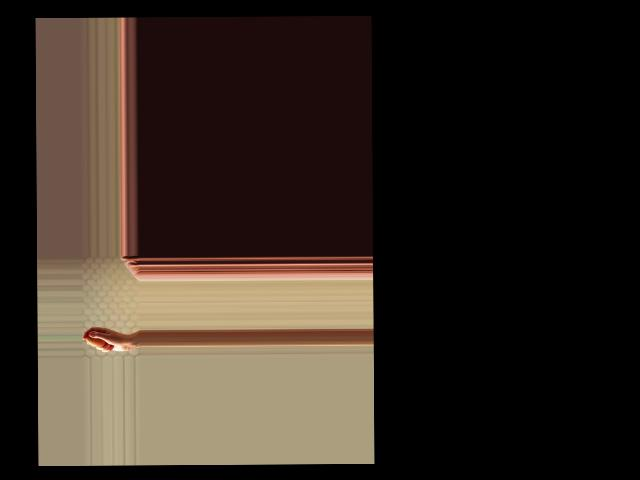egg: (86, 332, 105, 348)
